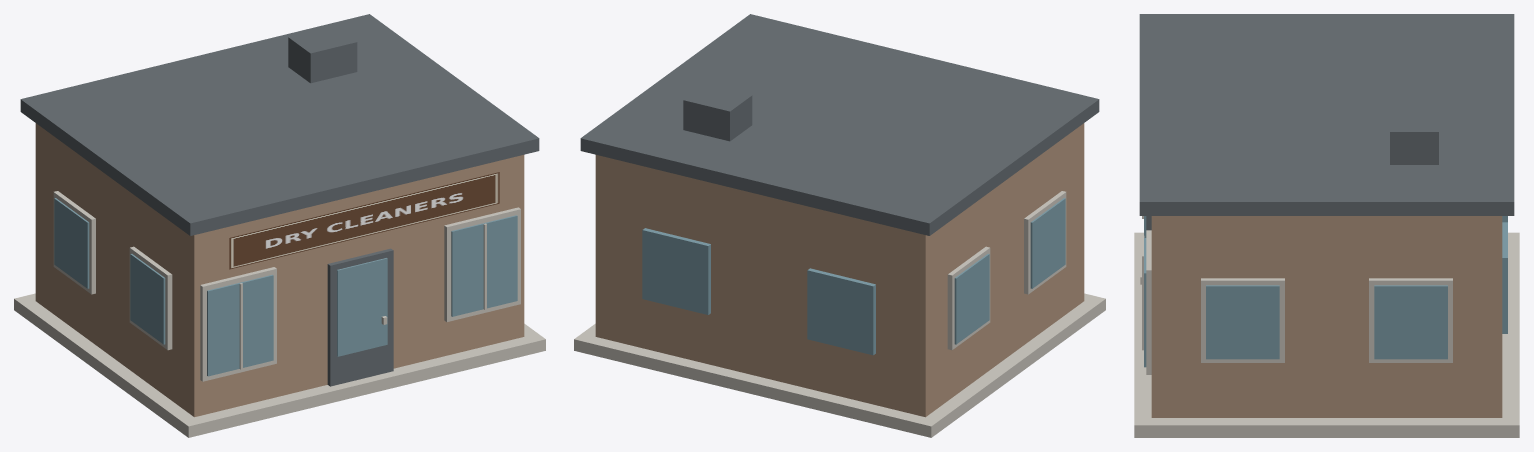
File: dry_cleaners.glb
The picture shows the model from 3 angles, left to right: view 1: azimuth 30°, elevation 25°; view 2: azimuth 150°, elevation 25°; view 3: azimuth 270°, elevation 25°; orthographic projection. The views are drawn at different scales.
Parts seen in each view (by area): view 1: world; view 2: world; view 3: world.
Part boxes in pixels (x1=…): world: x1=14, y1=14, x2=545, y2=437; world: x1=574, y1=14, x2=1105, y2=437; world: x1=1134, y1=14, x2=1519, y2=437.
Size of the model in its own units: 6.5 by 4.2 by 5.5.
Materials: 2 (1 with a texture image).
